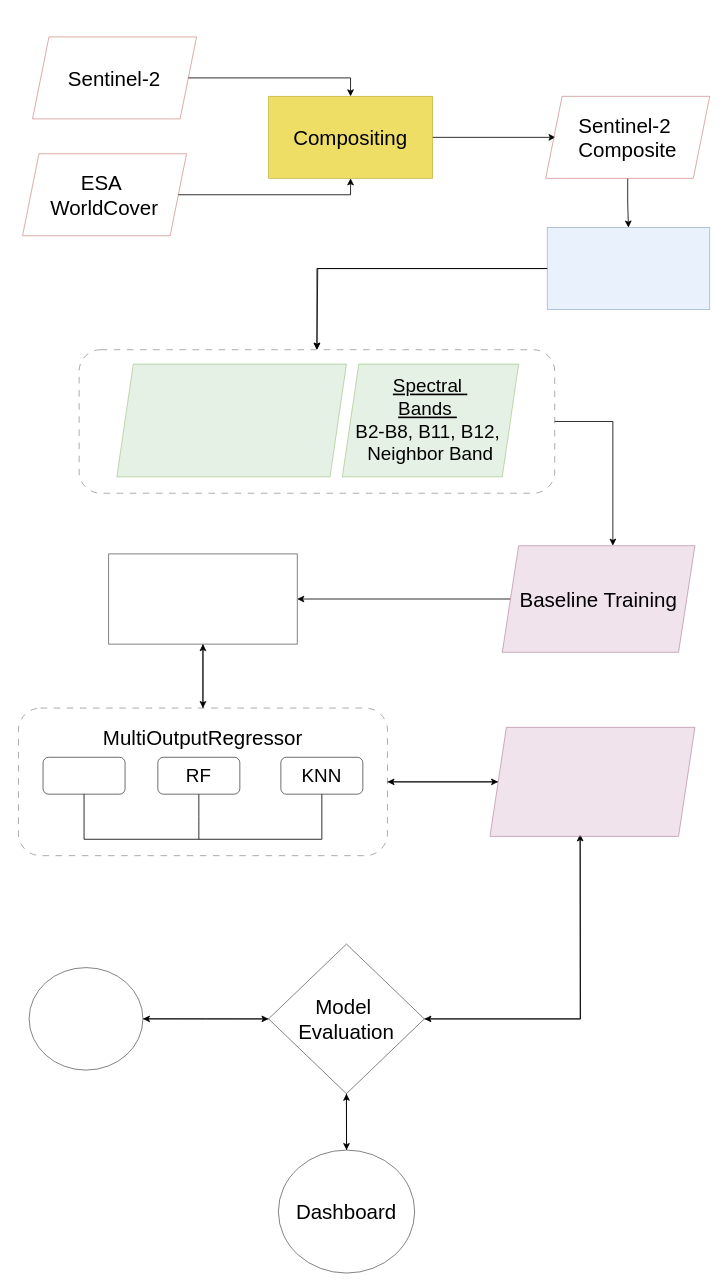
This 724x1287 diagram has some shape labels left out. Here are the shapes that lost their labels. From the top down, the centre of each, then its label:
At pixel 628 268: "Data Preprocessing".
At pixel 231 420: "Feature Engineering NDVI, NDBI, NDWI, SAVI, EVI2, MNDBI".
At pixel 202 598: "Hyperparameter Tuning".
At pixel 83 775: "XGB".
At pixel 592 781: "Final Estimator (Linear Regression)".
At pixel 85 1018: "Analysis".
